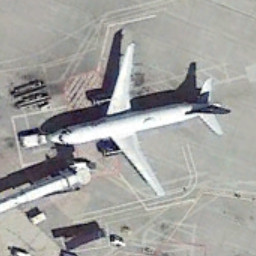Airplane: (43, 30, 235, 207)
